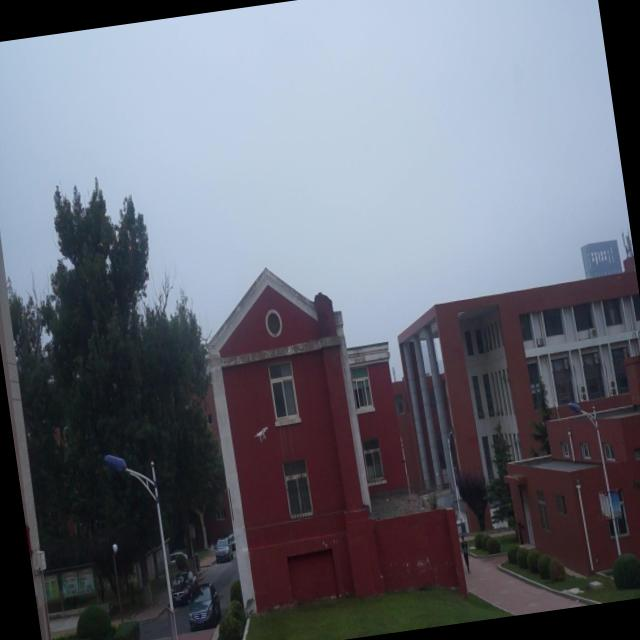drone: (250, 422, 273, 448)
